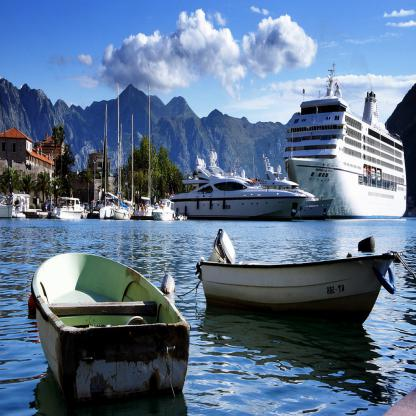Fishing Boat: (196, 230, 398, 326), (152, 199, 188, 221), (52, 196, 84, 219)
